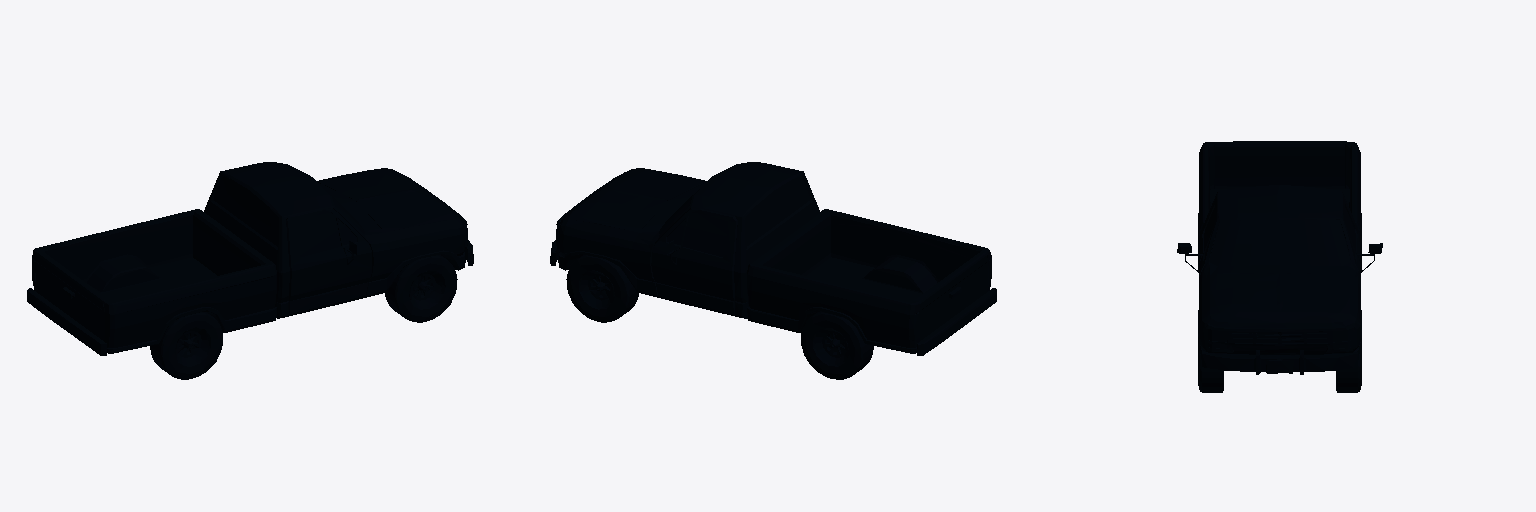
The model's file is carBlue.obj.
3 renders of one model, left to right at view 1: azimuth 30°, elevation 25°; view 2: azimuth 150°, elevation 25°; view 3: azimuth 270°, elevation 25°, orthographic.
Parts seen in each view (by area): view 1: Group6313.001; view 2: Group6313.001; view 3: Group6313.001.
Boxes of the visible parts, box(x1,y1,x2,y2) form: Group6313.001: box(27, 162, 473, 379); Group6313.001: box(550, 162, 996, 379); Group6313.001: box(1177, 141, 1382, 392).
Bounding box in the file's own units: 6.66 × 2.28 × 3.06.